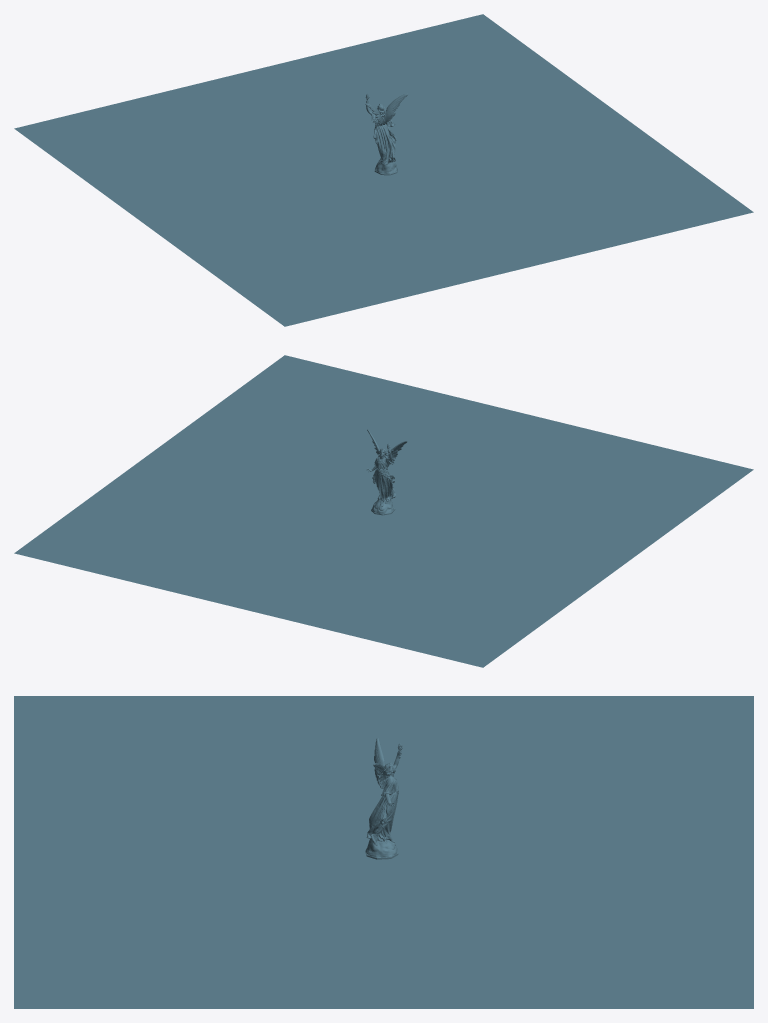
Rendered from lucy_scene.obj.
The picture shows the model from 3 angles, top to bottom: view 1: azimuth 30°, elevation 25°; view 2: azimuth 150°, elevation 25°; view 3: azimuth 270°, elevation 25°; orthographic projection. The views are drawn at different scales.
Visible parts, largest first — view 1: lucy_scene.obj; view 2: lucy_scene.obj; view 3: lucy_scene.obj.
Boxes of the visible parts, box(x1,y1,x2,y2) form: lucy_scene.obj: box(14, 14, 753, 326); lucy_scene.obj: box(14, 355, 753, 667); lucy_scene.obj: box(14, 696, 753, 1008).
Size of the model in its own units: 10 by 1.53 by 10.
